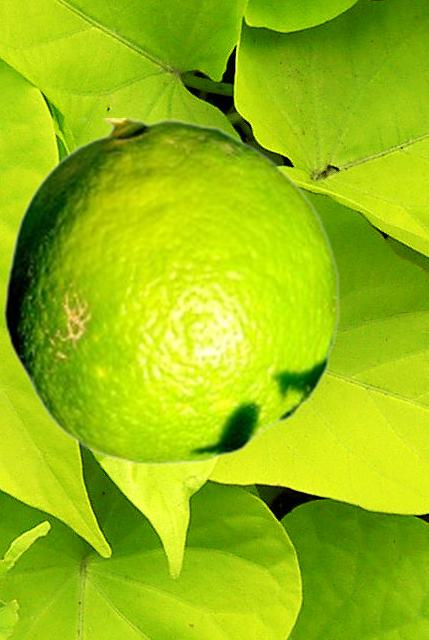dalandan: (3, 118, 339, 465)
